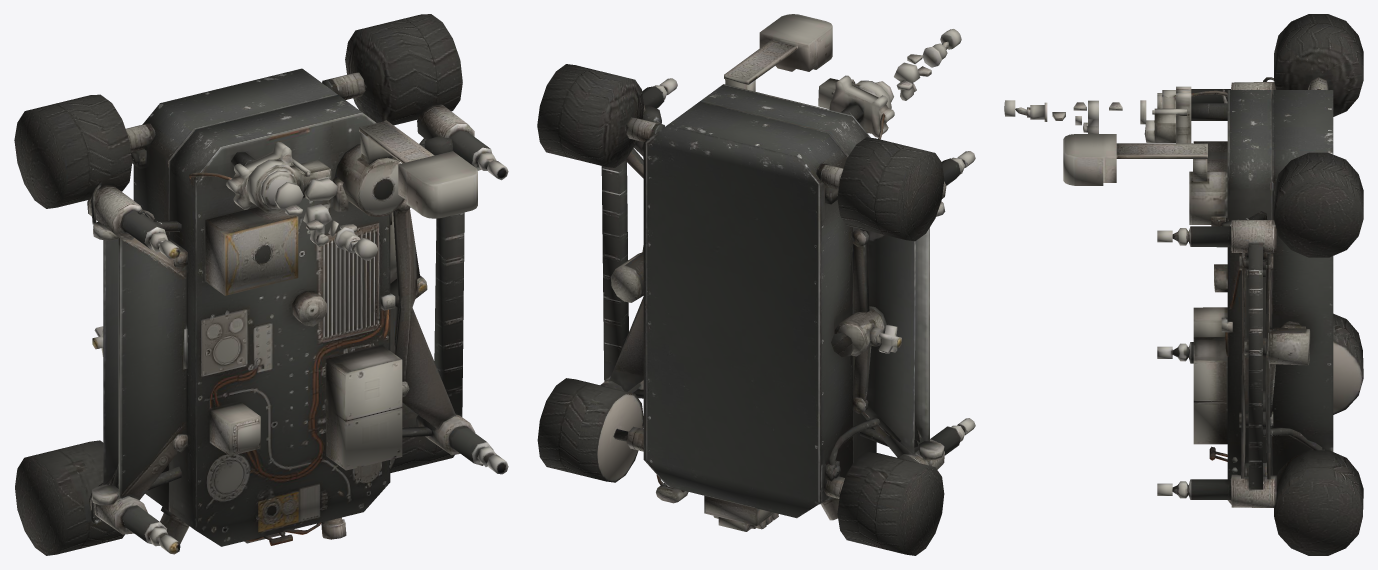
File: 019ead4c-659f-7aeb-a446-2877f83bbbce.glb
The picture shows the model from 3 angles, left to right: view 1: azimuth 30°, elevation 25°; view 2: azimuth 150°, elevation 25°; view 3: azimuth 270°, elevation 25°; orthographic projection. The views are drawn at different scales.
Visible parts, largest first — view 1: tripo_node_5287e2df-772a-4760-bd59-5b83fa11096b; view 2: tripo_node_5287e2df-772a-4760-bd59-5b83fa11096b; view 3: tripo_node_5287e2df-772a-4760-bd59-5b83fa11096b.
Part boxes in pixels (x1,y1,x2,y2): tripo_node_5287e2df-772a-4760-bd59-5b83fa11096b: (14, 14, 508, 555); tripo_node_5287e2df-772a-4760-bd59-5b83fa11096b: (537, 14, 975, 555); tripo_node_5287e2df-772a-4760-bd59-5b83fa11096b: (1004, 14, 1363, 555).
Size of the model in its own units: 0.9082 by 0.998 by 0.8301.
1 material, 1 textured.
